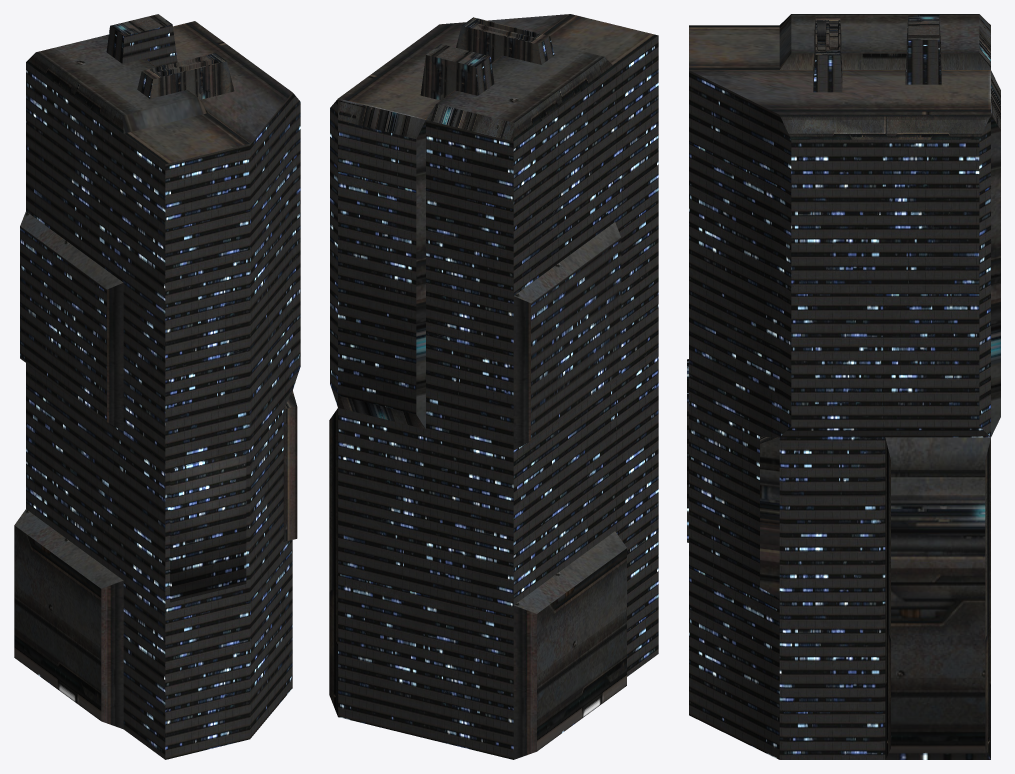
The model's file is s_03_05-new-building.glb.
3 renders of one model, left to right at view 1: azimuth 30°, elevation 25°; view 2: azimuth 150°, elevation 25°; view 3: azimuth 270°, elevation 25°, orthographic. The views are drawn at different scales.
Visible parts, largest first — view 1: s_03_05-new-building; view 2: s_03_05-new-building; view 3: s_03_05-new-building.
Part boxes in pixels (x1,y1,x2,y2): s_03_05-new-building: [14, 14, 300, 759]; s_03_05-new-building: [329, 14, 658, 759]; s_03_05-new-building: [687, 14, 1000, 759].
Bounding box in the file's own units: 59.24 × 180 × 74.57.
Materials: 1 (1 with a texture image).
